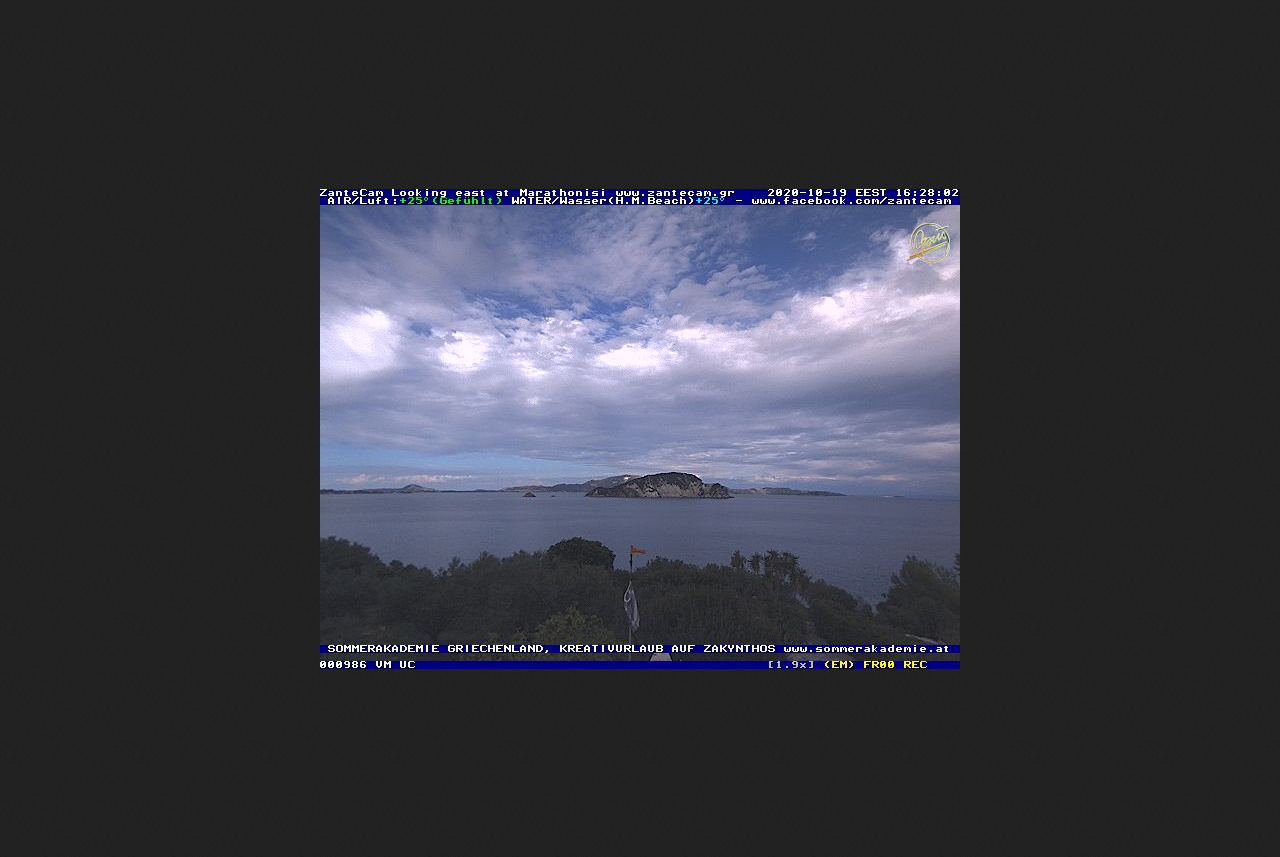no: (621, 563, 648, 638)
